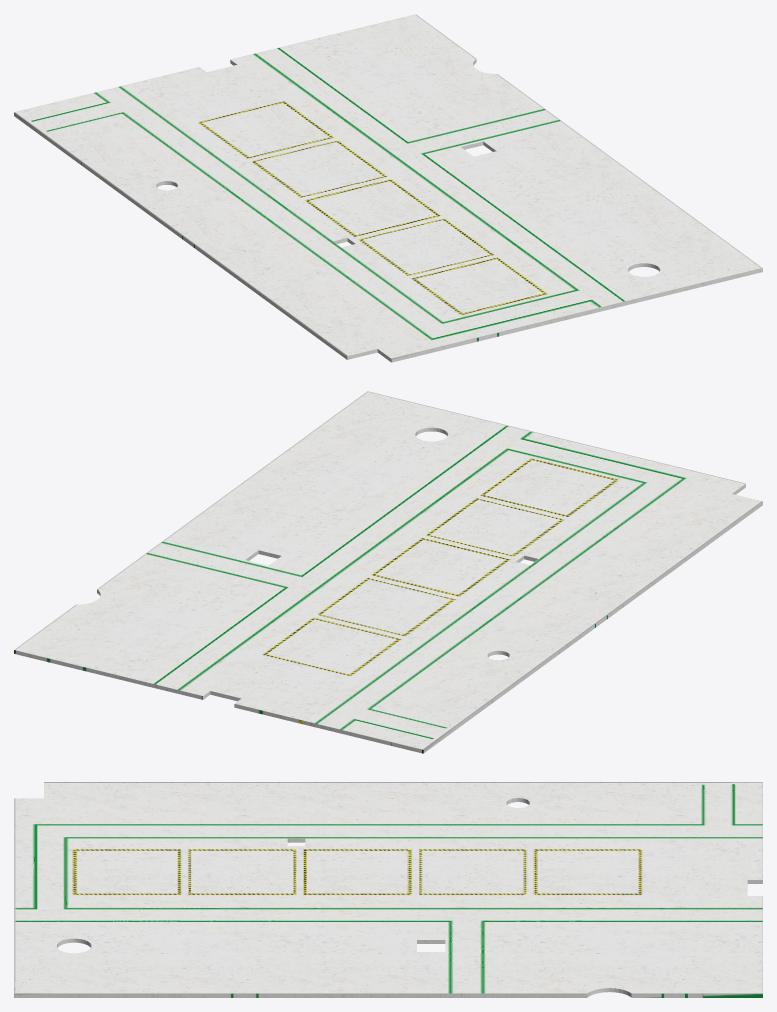
File: ground.dae
3 renders of one model, top to bottom at view 1: azimuth 30°, elevation 25°; view 2: azimuth 150°, elevation 25°; view 3: azimuth 270°, elevation 25°, orthographic. The views are drawn at different scales.
Parts seen in each view (by area): view 1: aws1; view 2: aws1; view 3: aws1.
Part boxes in pixels (x1,y1,x2,y2): aws1: (14,14,762,362); aws1: (14,391,762,753); aws1: (14,782,762,997).
Bounding box in the file's own units: 13.98 × 20.91 × 0.1243.
